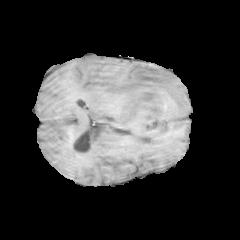glioma: (88, 66, 187, 141)
